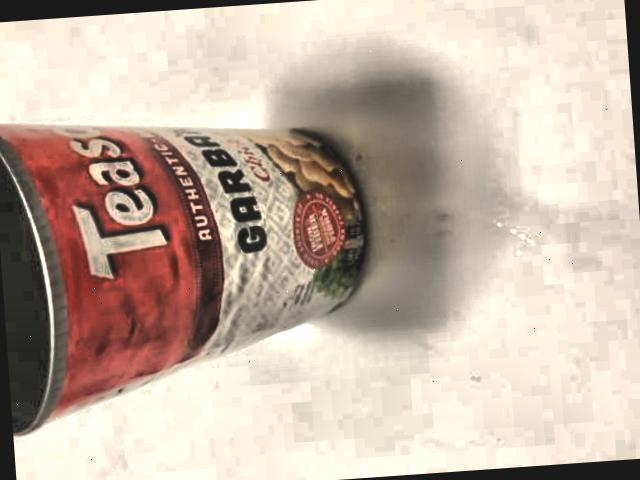Almennt: (0, 81, 387, 423)
